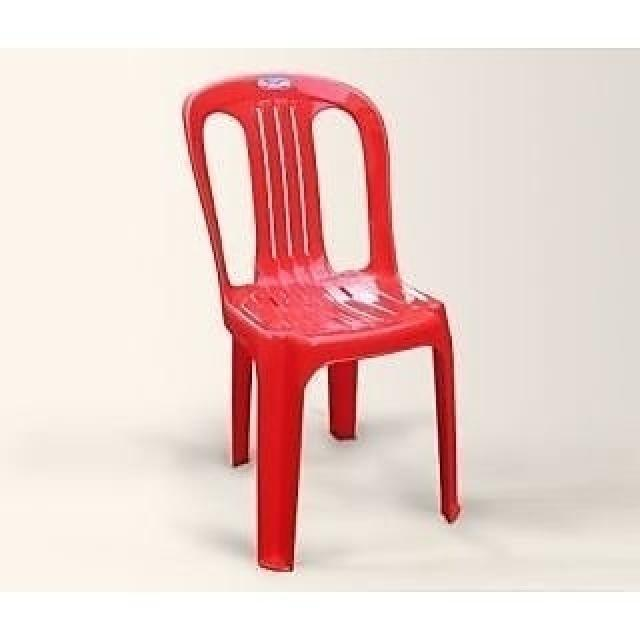chair: (180, 66, 470, 578)
